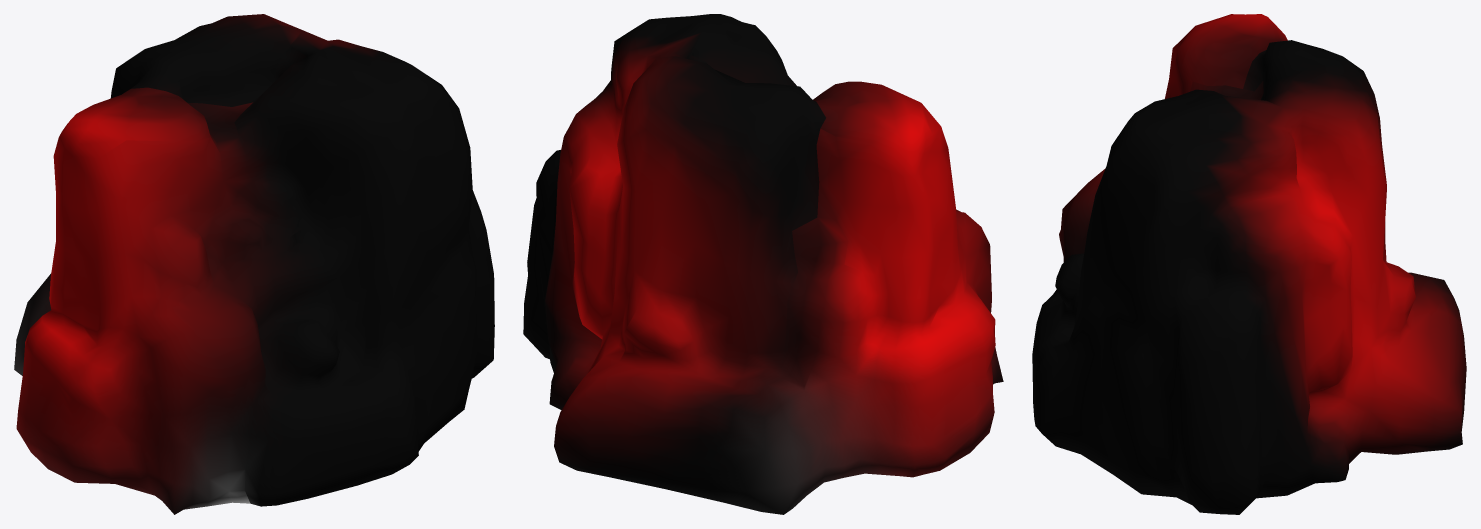
3 views of the same model, side by side, from view 1: azimuth 30°, elevation 25°; view 2: azimuth 150°, elevation 25°; view 3: azimuth 270°, elevation 25° (orthographic).
Parts seen in each view (by area): view 1: rockFInal_LOD0; view 2: rockFInal_LOD0; view 3: rockFInal_LOD0.
Part boxes in pixels (x1,y1,x2,y2): rockFInal_LOD0: (14, 14, 494, 514); rockFInal_LOD0: (523, 14, 1003, 514); rockFInal_LOD0: (1032, 14, 1466, 514).
Size of the model in its own units: 3.83 by 2.96 by 3.3.
